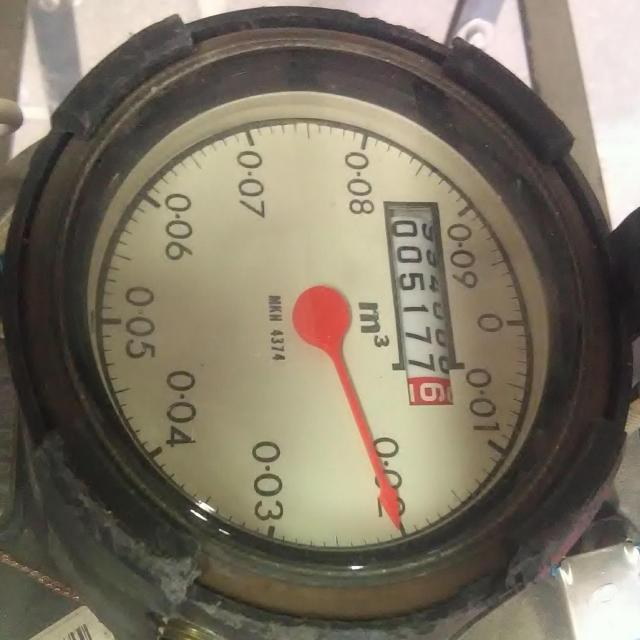gaz_meter: (81, 88, 551, 550)
indication: (385, 203, 459, 405)
